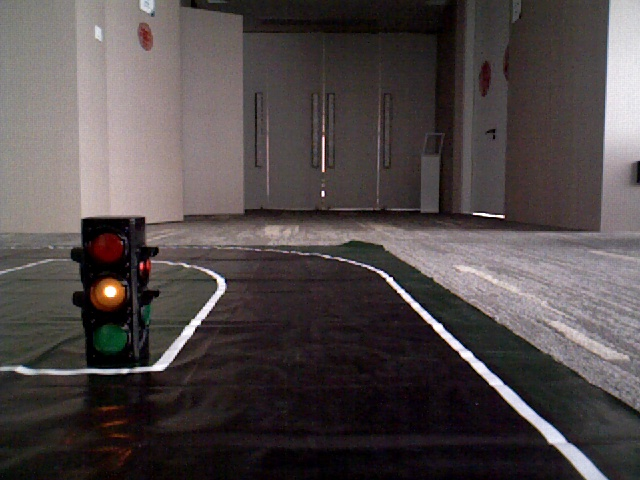yellow: (81, 220, 132, 357)
